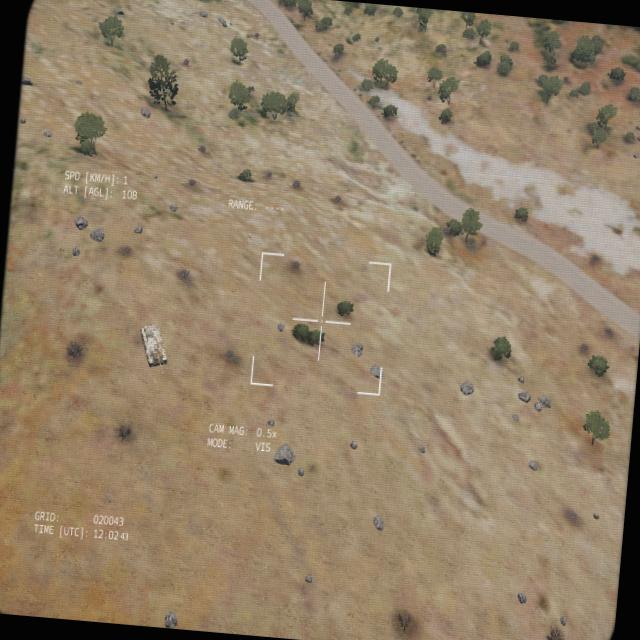tank: (136, 319, 170, 375)
